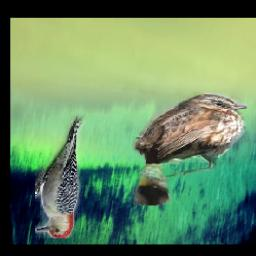Sparrow: (134, 92, 248, 206)
Woodpecker: (36, 114, 86, 239)
